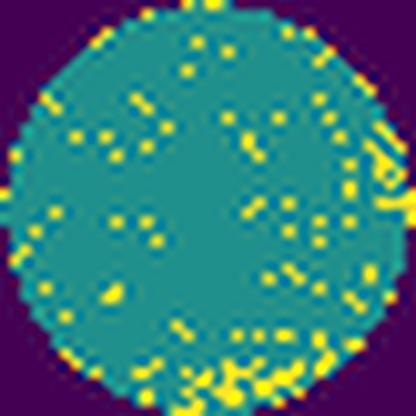Loc: (212, 354, 262, 410), (257, 359, 306, 395), (99, 278, 129, 305)
